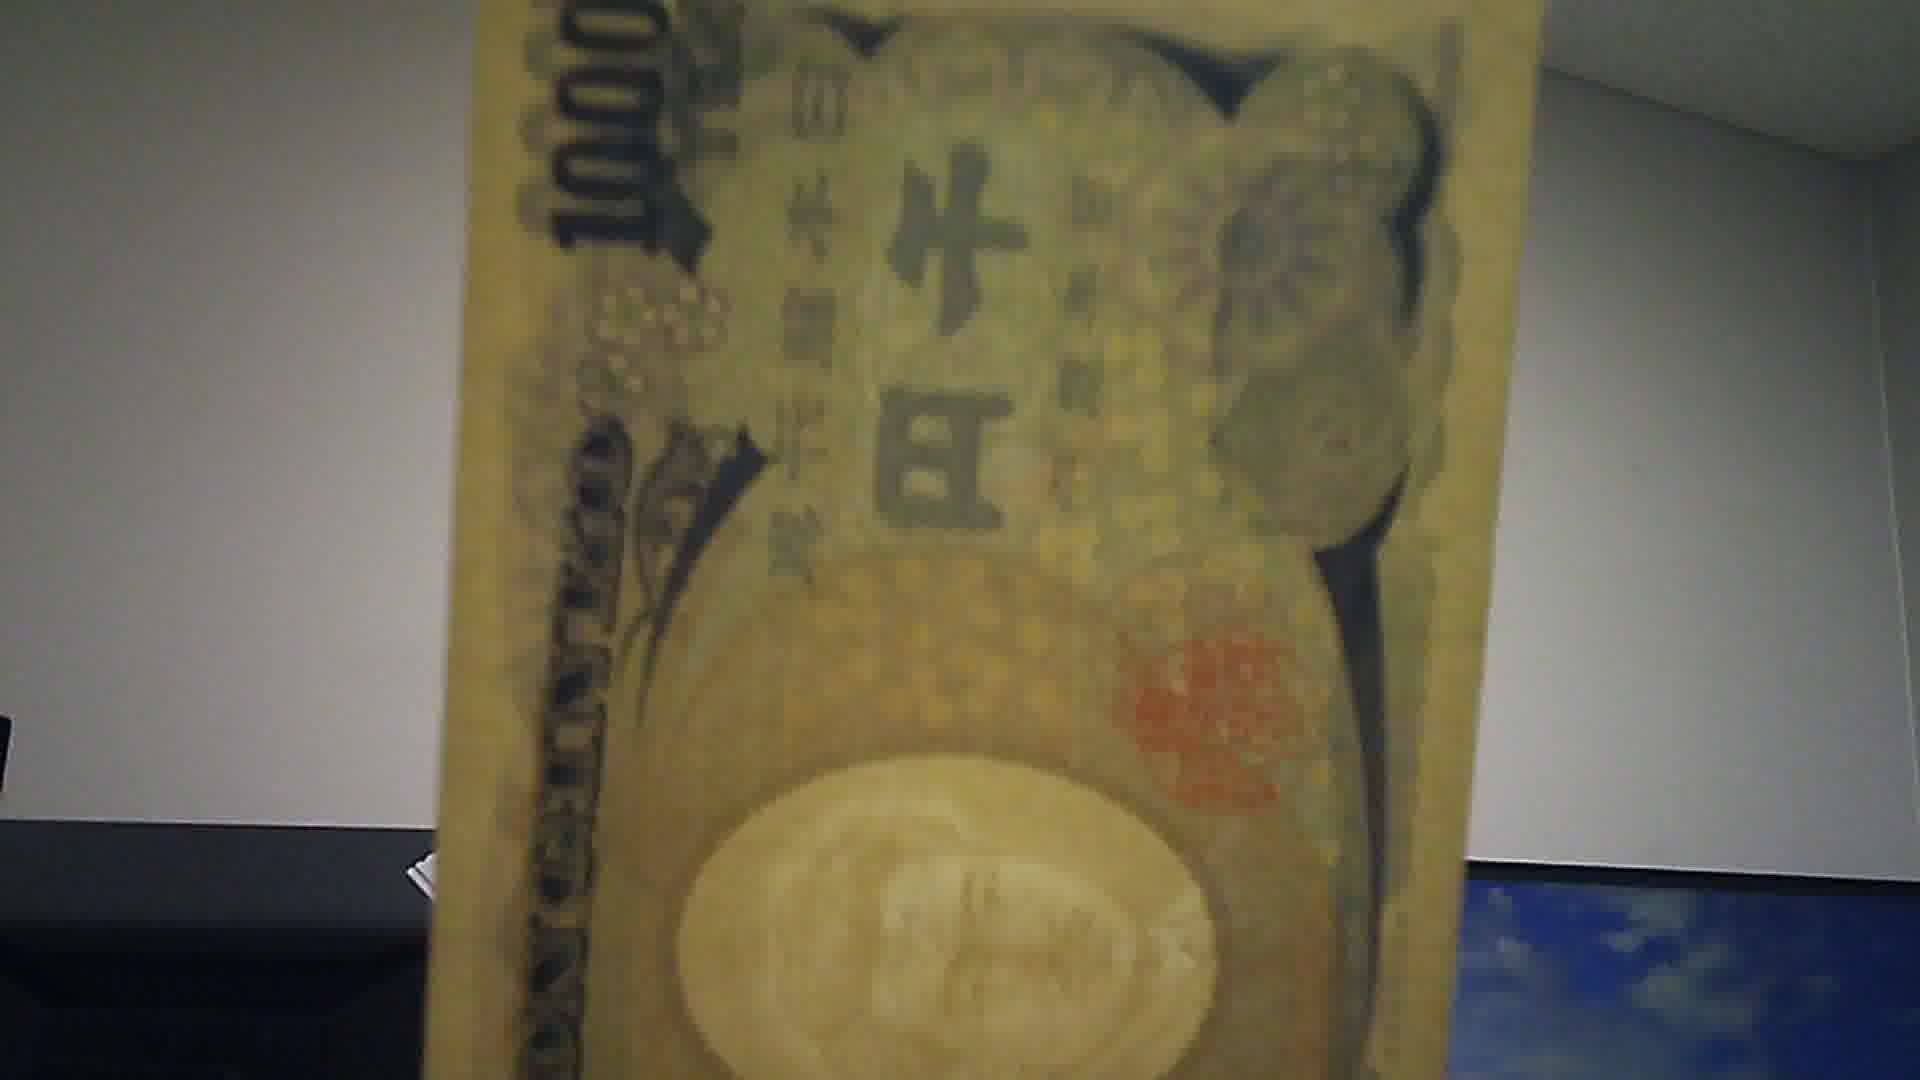1,000 Yen: (454, 5, 1547, 1079)
